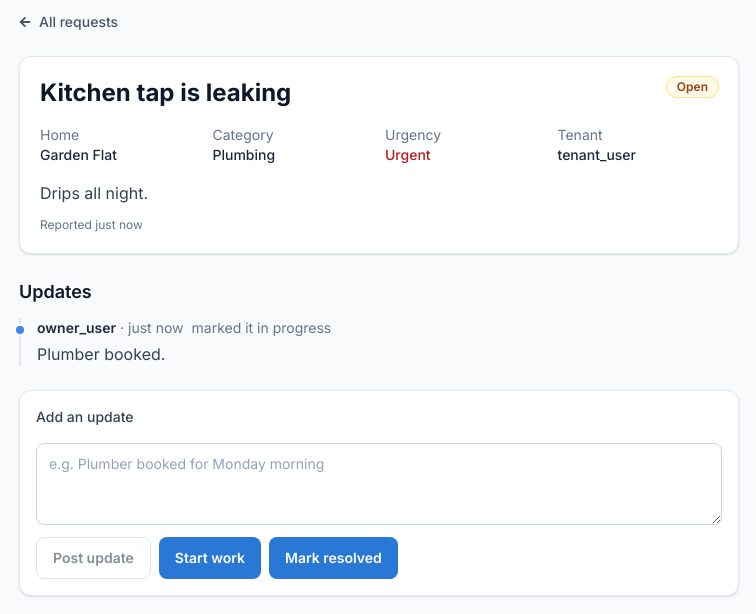
Test: Maintenance request page › posts an update with a status change
The image size is (756, 614).
Type "Fixed the washer." into the text box labelled "Add an update" at (379, 484), box [36,443,722,525]
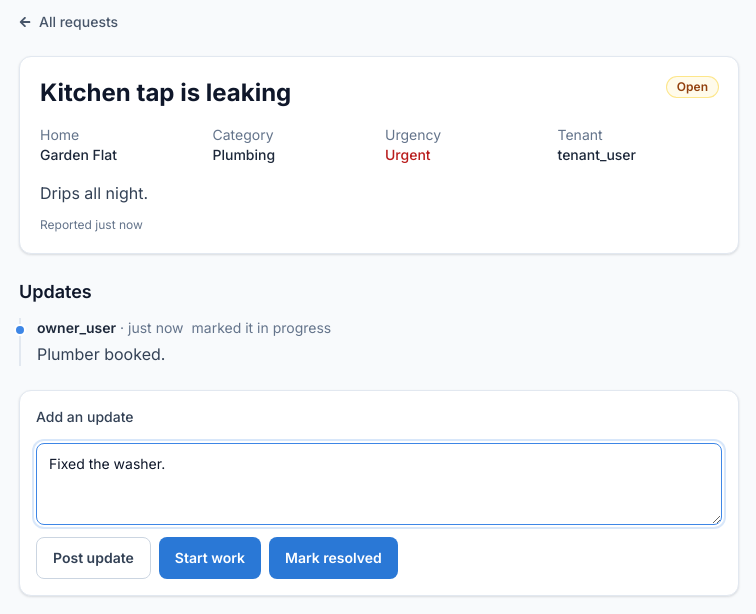
Click the button "Mark resolved" at (333, 558), box [269,537,398,579]
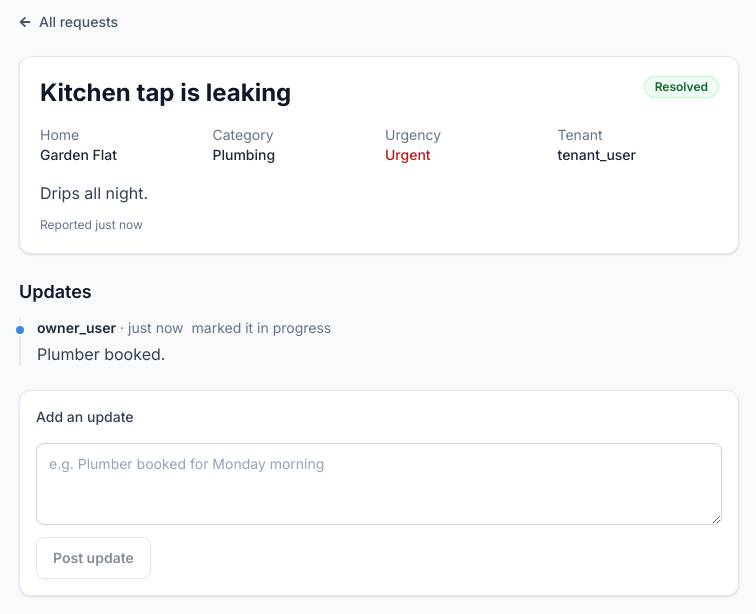
Check: the text "Resolved" is shown, box [645,77,718,97]
